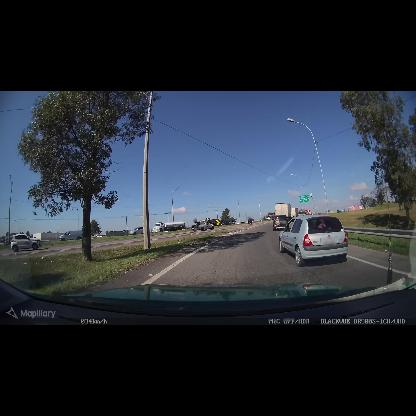R-2: (306, 209, 310, 214)
